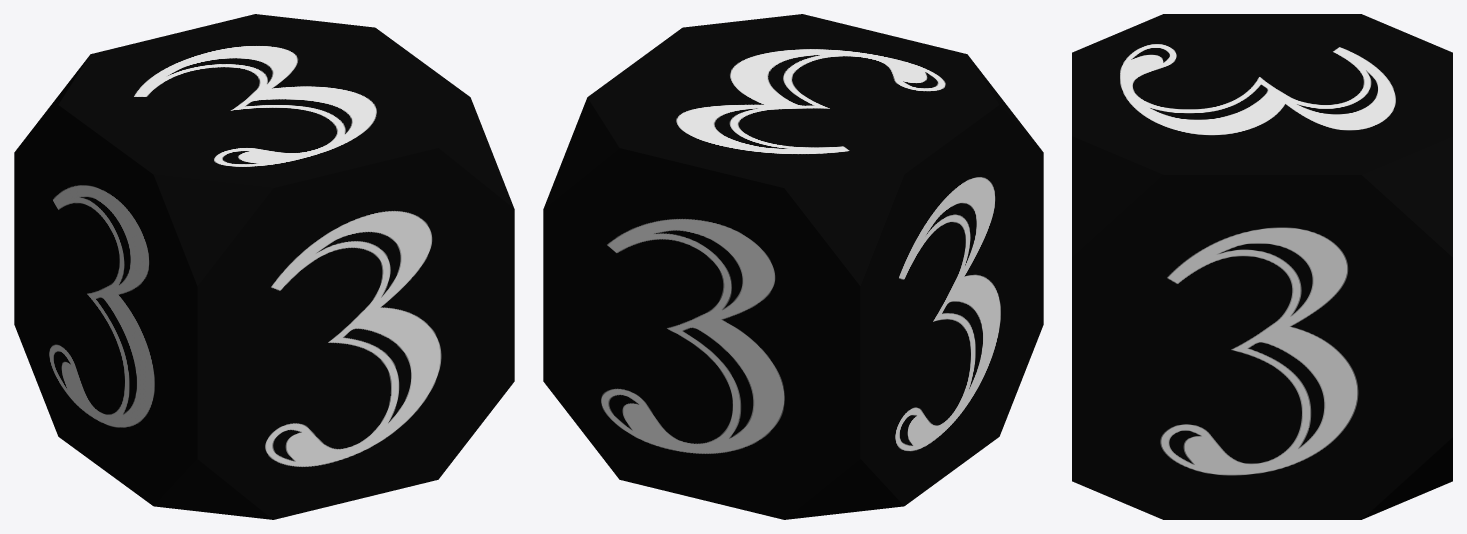
The model's file is BlockBase-3.fbx.
3 renders of one model, left to right at view 1: azimuth 30°, elevation 25°; view 2: azimuth 150°, elevation 25°; view 3: azimuth 270°, elevation 25°, orthographic. The views are drawn at different scales.
Visible parts, largest first — view 1: Cube.002; view 2: Cube.002; view 3: Cube.002.
Part boxes in pixels (bbox=[...]): Cube.002: bbox=[14, 14, 514, 519]; Cube.002: bbox=[543, 14, 1043, 519]; Cube.002: bbox=[1072, 14, 1452, 519].
Size of the model in its own units: 50 by 50 by 50.
1 material, 1 textured.
